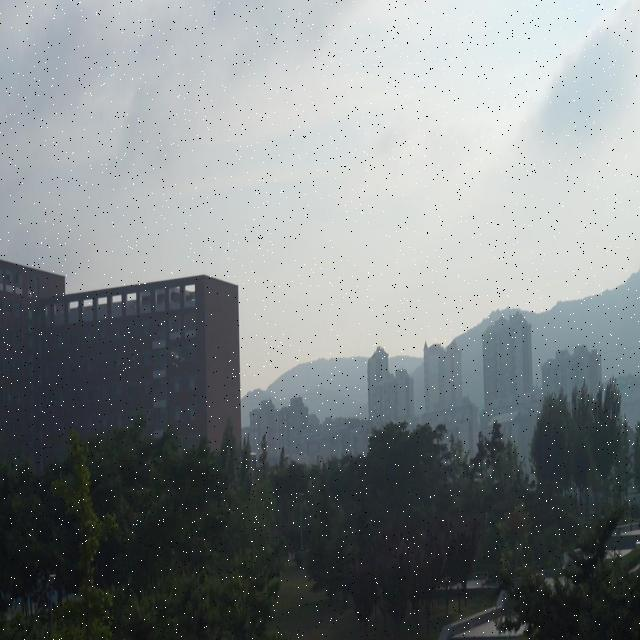UAV: (170, 351, 187, 368)
